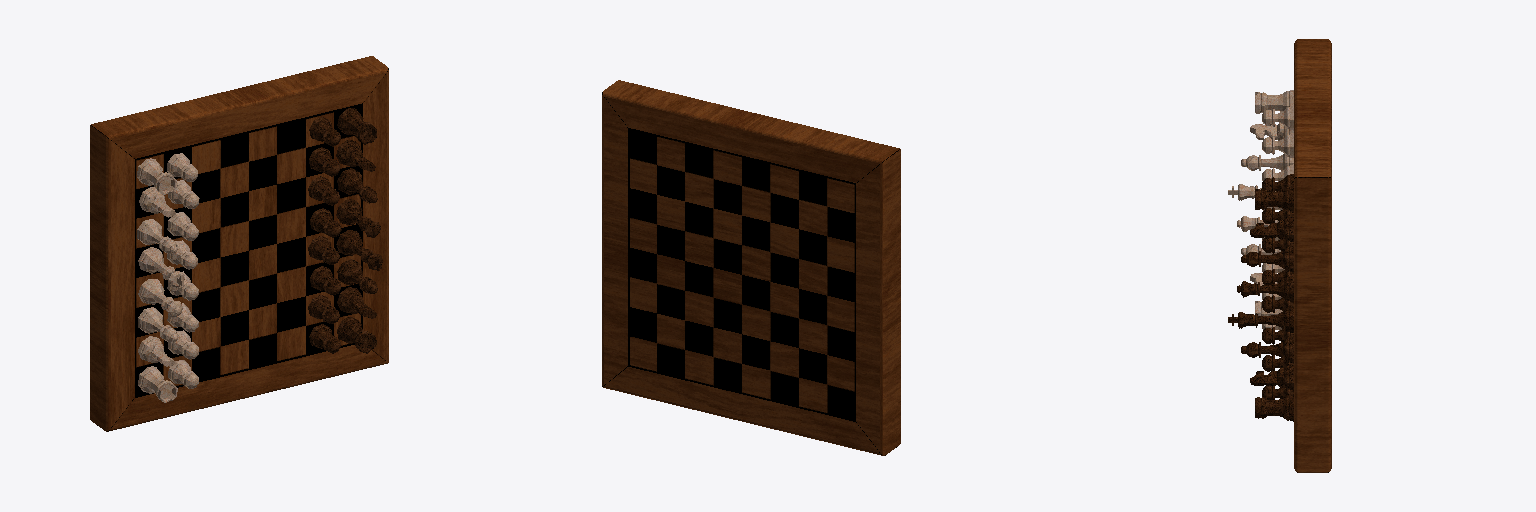
The picture shows the model from 3 angles: view 1: azimuth 30°, elevation 25°; view 2: azimuth 150°, elevation 25°; view 3: azimuth 270°, elevation 25°; orthographic projection.
Visible parts, largest first — view 1: obj1, obj12, obj3, obj11, obj7, obj18, obj15, obj8, obj6, obj16, obj5, obj9 (+18 smaller); view 2: obj1; view 3: obj1, obj12, obj15, obj3, obj8, obj5, obj13, obj10, obj14, obj18, obj16.
Part boxes in pixels (x1,y1,x2,y2): obj1: (90,56,388,431); obj12: (336,230,382,270); obj3: (337,108,376,144); obj11: (138,247,184,287); obj7: (138,366,177,402); obj18: (137,158,176,194); obj15: (337,317,376,353); obj8: (336,199,380,237); obj6: (138,279,182,316); obj16: (137,219,177,253); obj5: (337,168,377,203); obj9: (138,307,177,341); obj1: (602,80,900,455); obj1: (1294,39,1331,472); obj12: (1228,307,1293,332); obj15: (1255,394,1293,421); obj3: (1255,186,1293,212); obj8: (1237,276,1293,301); obj5: (1241,246,1293,272); obj13: (1241,336,1293,363); obj10: (1250,217,1293,242); obj14: (1250,365,1293,390); obj18: (1255,90,1293,113); obj16: (1241,154,1293,170).
Bounding box in the file's own units: 0.35 × 0.35 × 0.1108.
Materials: 3 (3 with a texture image).